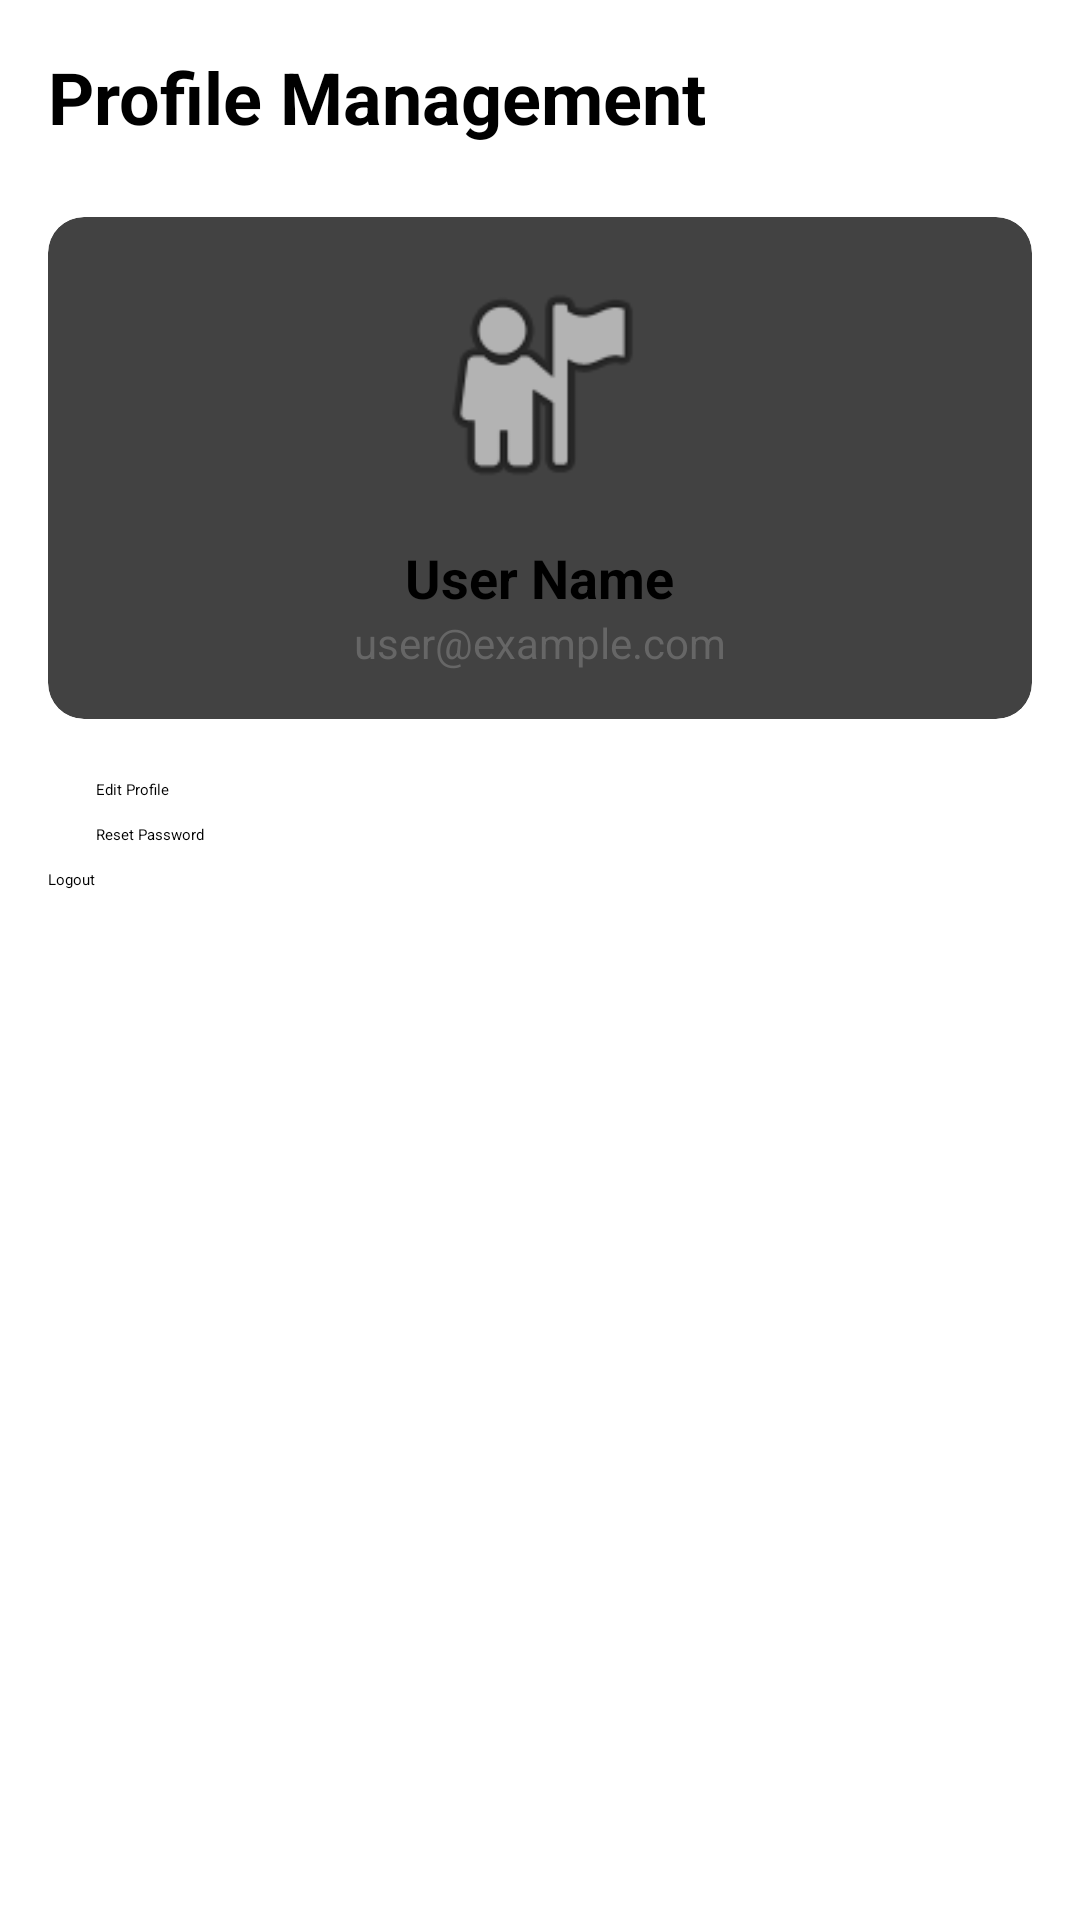

Where to tap for icons on this 1080 × 1920 app screen, as (x=x, y=y):
myplaces: (x=543, y=385)
